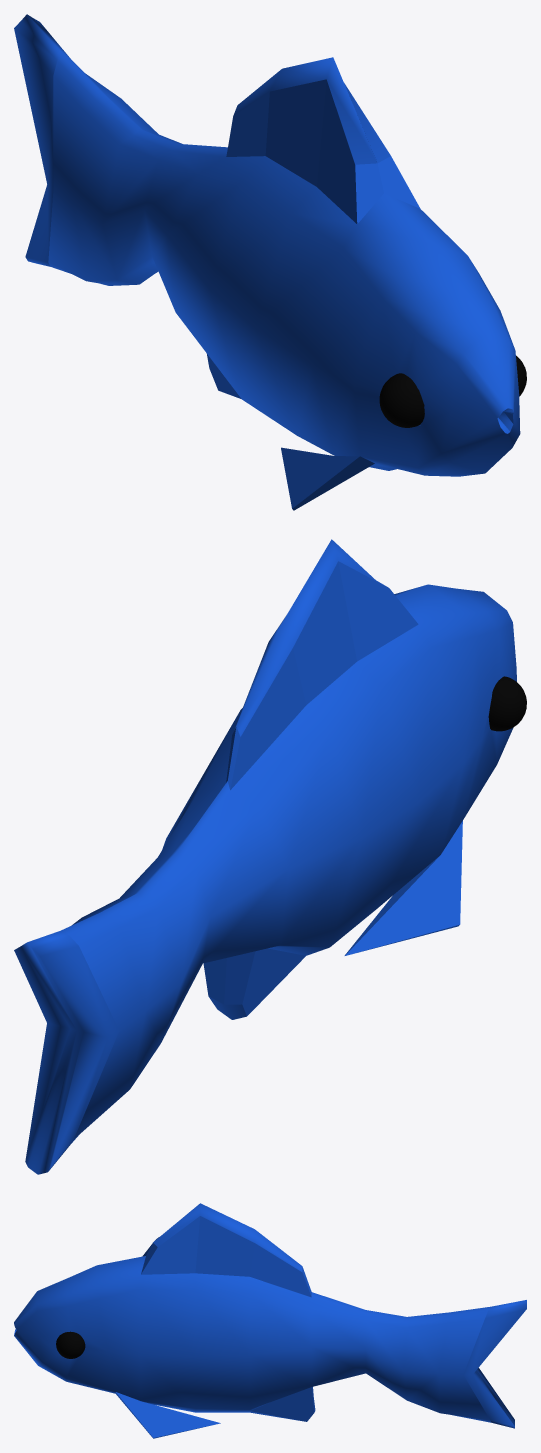
File: fish2.FBX
3 views of the same model, one above another, from view 1: azimuth 30°, elevation 25°; view 2: azimuth 150°, elevation 25°; view 3: azimuth 270°, elevation 25° (orthographic). The views are drawn at different scales.
Parts seen in each view (by area): view 1: Cylinder001, Sphere002; view 2: Cylinder001, Sphere002; view 3: Cylinder001, Sphere001.
Part boxes in pixels (x1,y1,x2,y2): Cylinder001: (14, 14, 520, 510); Sphere002: (379, 373, 424, 427); Cylinder001: (14, 539, 516, 1174); Sphere002: (488, 676, 526, 731); Cylinder001: (14, 1203, 526, 1438); Sphere001: (56, 1331, 85, 1358).
Size of the model in its own units: 37.17 by 88.18 by 182.
